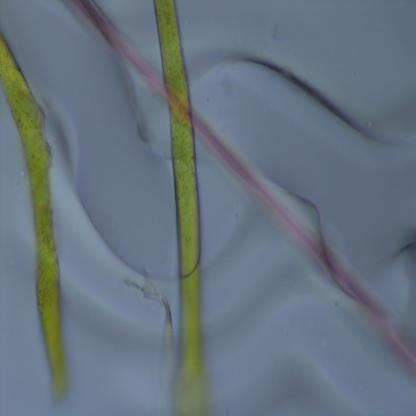Background material: (45, 73, 175, 357), (193, 41, 406, 169), (213, 213, 302, 381), (378, 222, 416, 304)
Microfibre: (78, 1, 416, 373), (150, 0, 214, 416), (0, 34, 72, 402)
